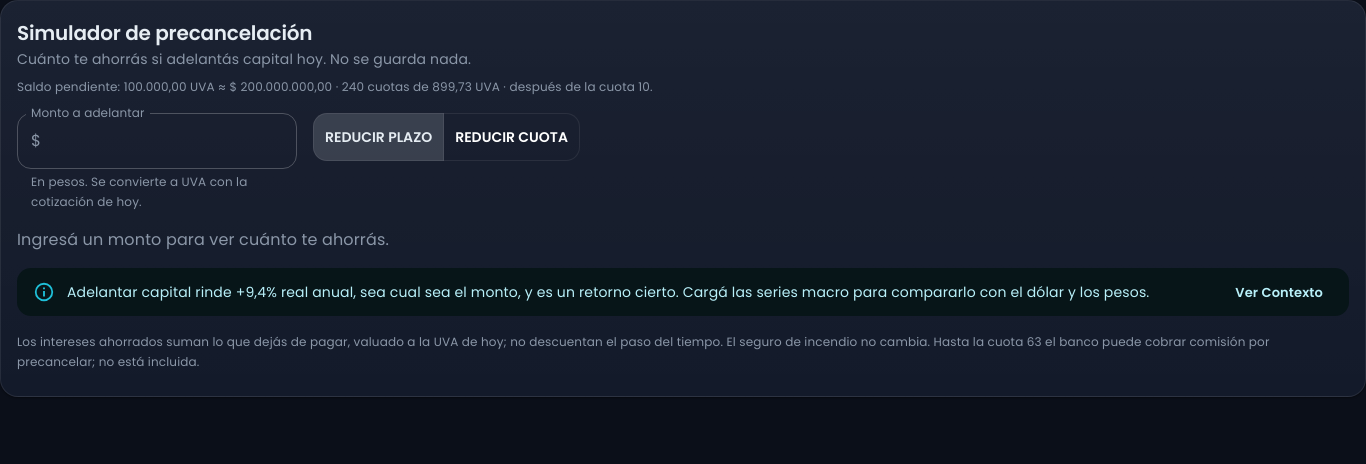
Test: PrepaymentSimulatorCard › reducir cuota muestra la cuota nueva sin perder el monto
The image size is (1366, 464).
Type "20.000.000" into the field labelled "Monto a adelantar". click: (173, 141)
box: left=49, top=113, right=297, bottom=169
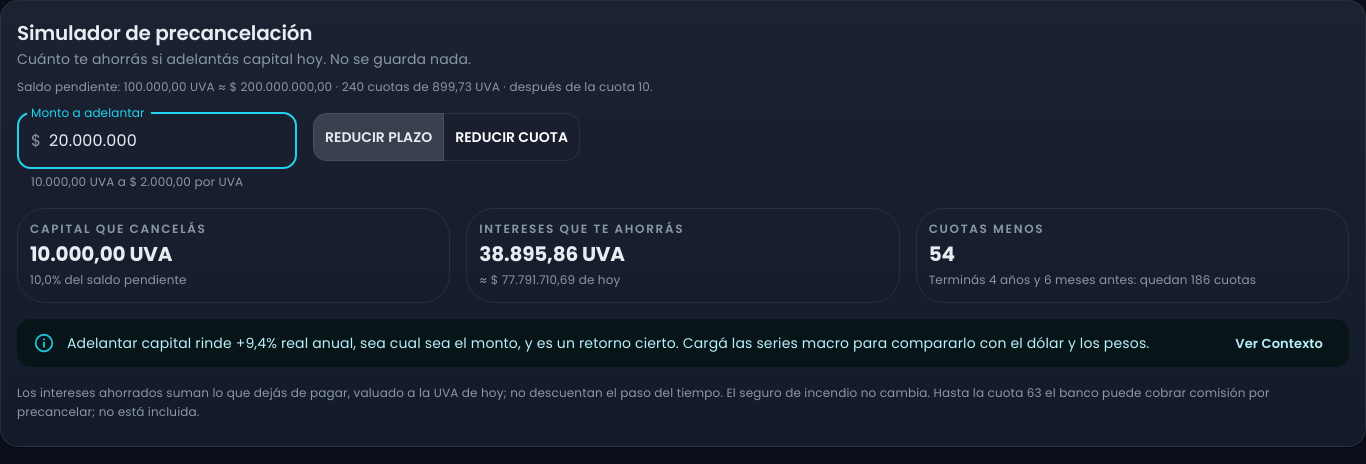
Click the button "Reducir cuota". click: (512, 137)
box: left=443, top=113, right=580, bottom=161
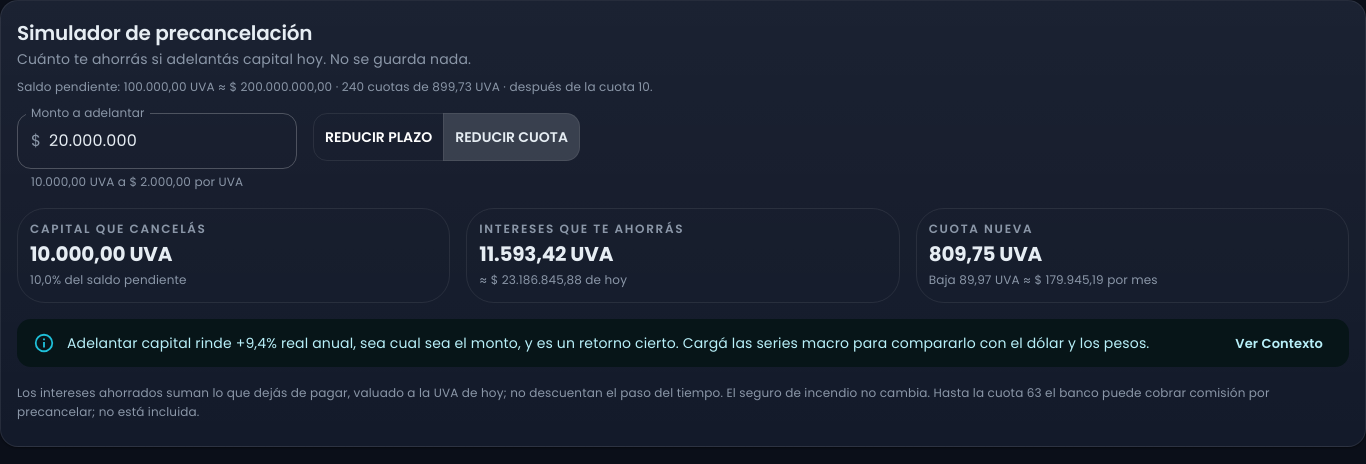
Check: the text "809,75 UVA" is shown, box left=929, top=240, right=1042, bottom=268
Check: the text "Cuotas menos" is gone
